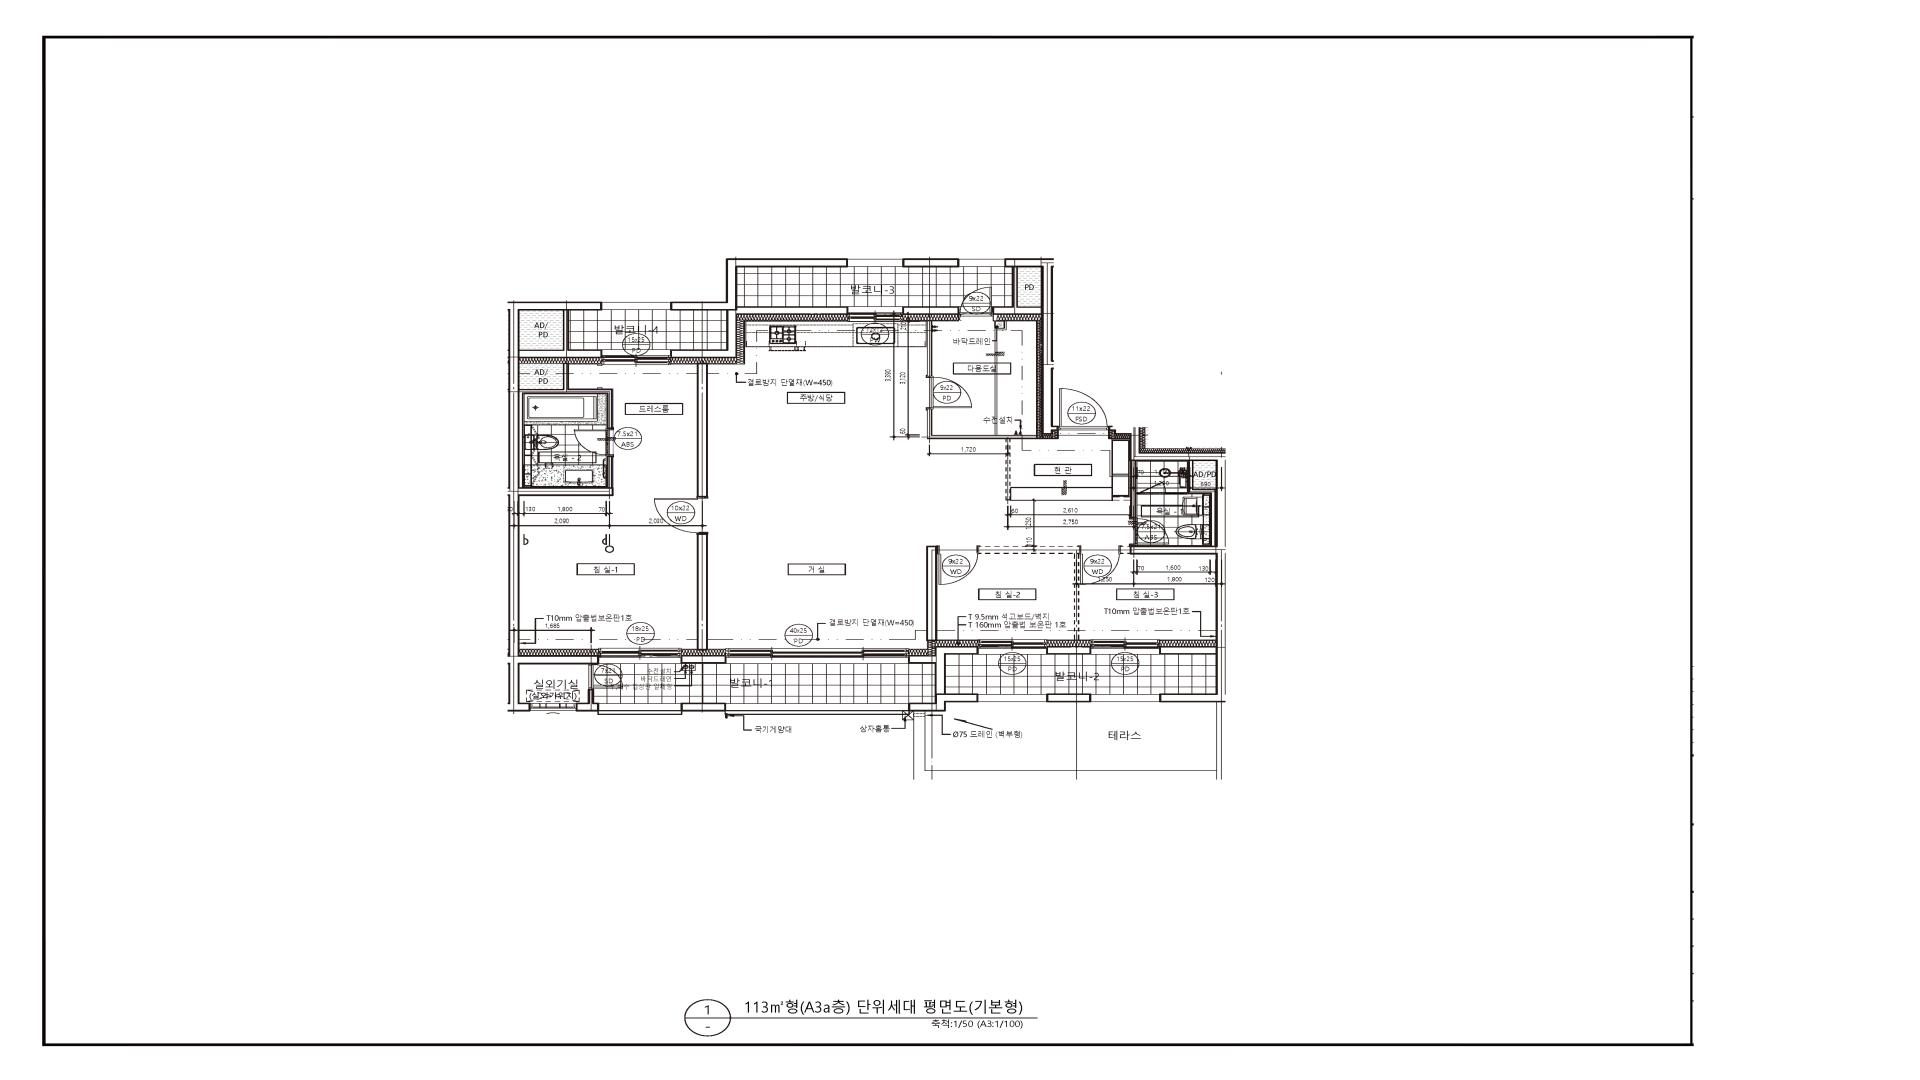door: (654, 496, 708, 535), (1058, 388, 1108, 430), (1079, 545, 1121, 585), (937, 545, 979, 585), (926, 376, 972, 409), (1129, 517, 1169, 546), (574, 429, 614, 456), (958, 287, 993, 316), (589, 664, 623, 689), (1137, 482, 1166, 495)
wall: (508, 302, 614, 712), (1108, 426, 1225, 702), (519, 363, 613, 487), (927, 409, 1036, 500), (1005, 258, 1059, 435), (979, 546, 1079, 640), (670, 306, 848, 358), (670, 258, 848, 310), (1166, 461, 1216, 546), (519, 310, 602, 358), (909, 646, 978, 693), (993, 267, 1041, 315), (697, 363, 708, 496), (909, 693, 978, 712), (697, 535, 708, 651), (926, 546, 937, 642), (576, 689, 599, 712), (903, 258, 959, 267), (903, 306, 959, 315), (1160, 646, 1216, 655), (681, 703, 726, 712), (682, 655, 726, 664), (1047, 646, 1091, 655), (1047, 694, 1091, 702), (1130, 461, 1136, 517), (607, 456, 613, 487)
window: (726, 648, 909, 664), (725, 703, 909, 715), (598, 648, 682, 664), (1091, 639, 1160, 655), (978, 639, 1047, 655), (602, 349, 671, 365), (599, 703, 681, 715), (848, 306, 903, 322), (978, 694, 1048, 702), (1091, 694, 1160, 702), (602, 302, 671, 310), (848, 259, 903, 267), (959, 259, 1005, 267), (531, 703, 576, 711)
